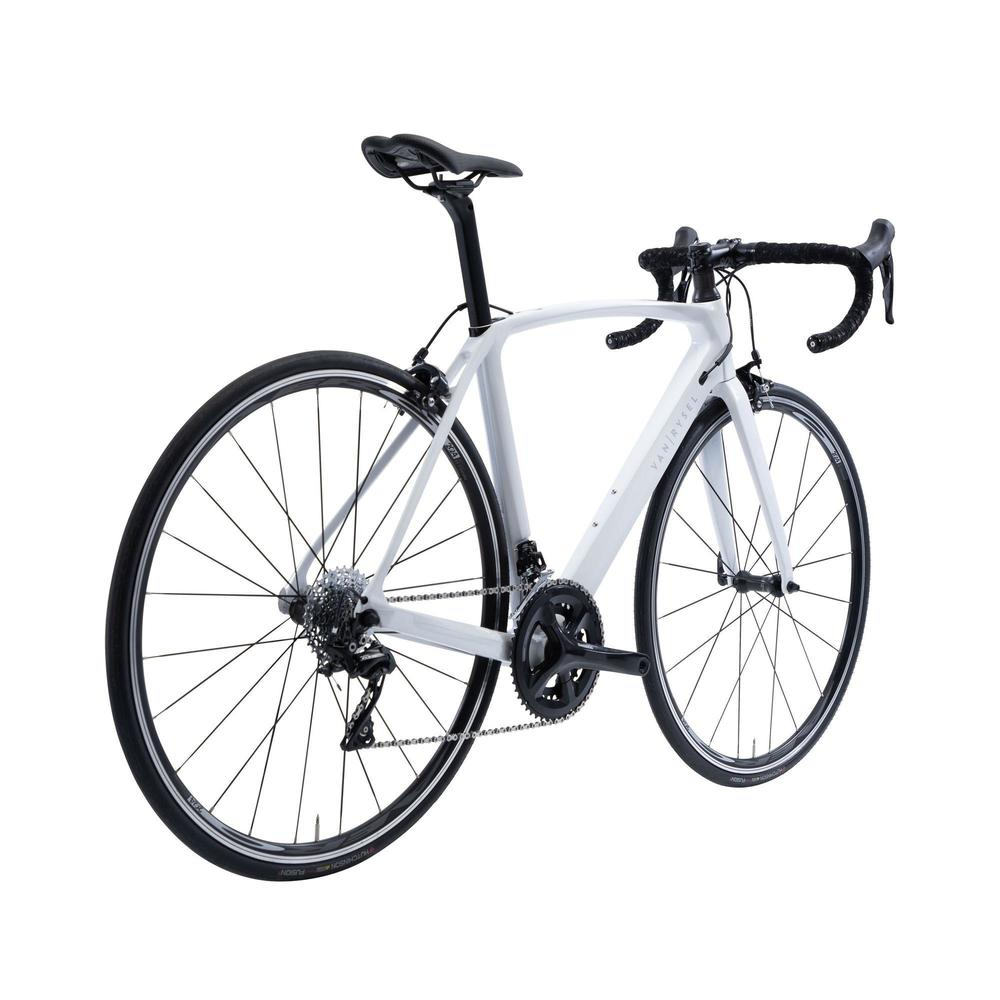RoadBike: (113, 126, 894, 880)
